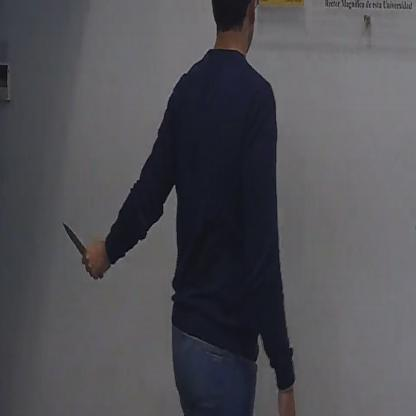knife: (60, 214, 100, 278)
